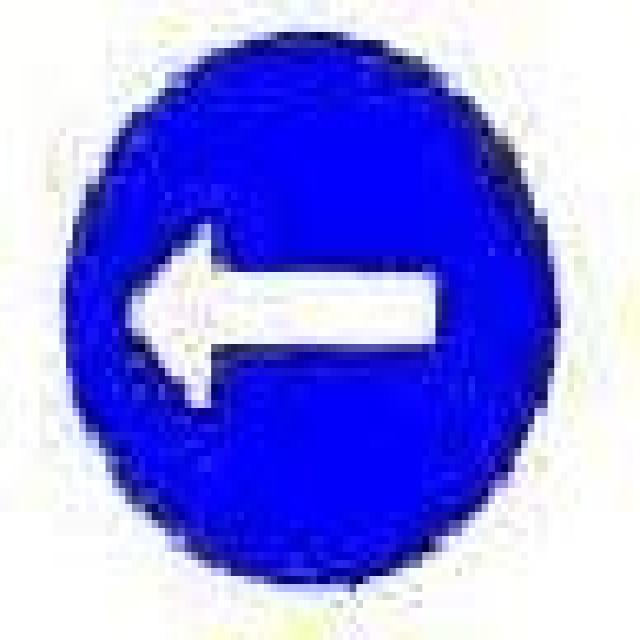COMPULSARY_TURN_LEFT: (62, 26, 560, 598)
